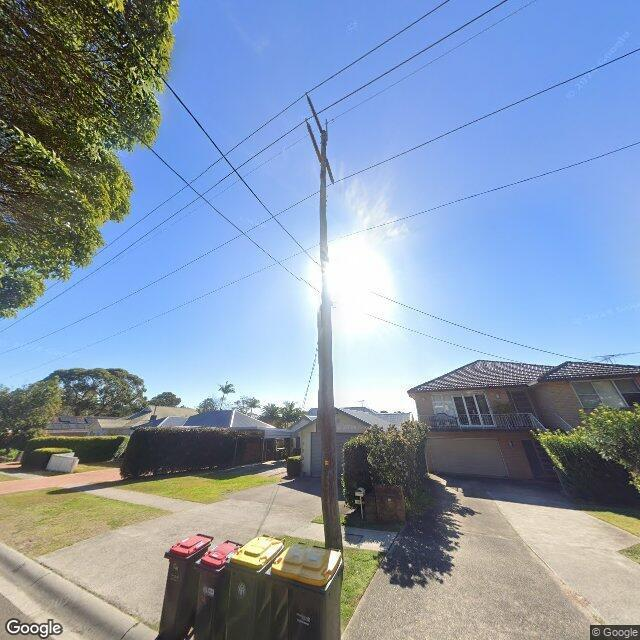HV-transmission: (303, 91, 336, 182)
timber-pole: (316, 130, 343, 554)
